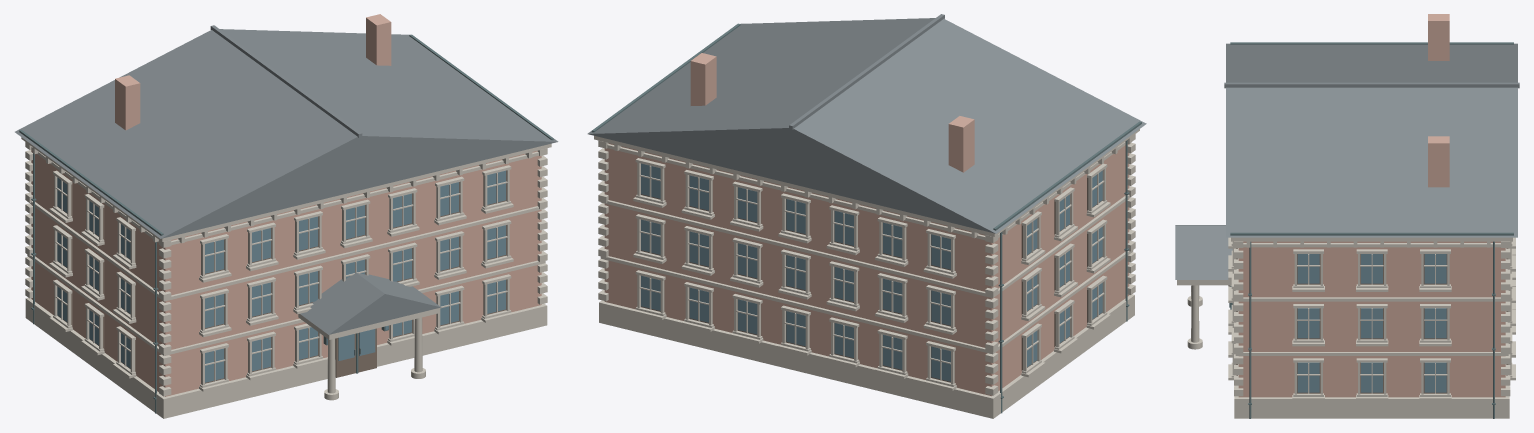
The model's file is management.glb.
3 views of the same model, side by side, from view 1: azimuth 30°, elevation 25°; view 2: azimuth 150°, elevation 25°; view 3: azimuth 270°, elevation 25° (orthographic). The views are drawn at different scales.
Parts seen in each view (by area): view 1: management-roof, management-stone, management-brick, management-glass, management-wood, management-metal; view 2: management-roof, management-stone, management-brick, management-glass, management-metal, management-wood; view 3: management-roof, management-brick, management-stone, management-glass, management-metal, management-wood.
Boxes of the visible parts, x1=… form: management-roof: x1=15, y1=25, x2=558, y2=334; management-stone: x1=21, y1=137, x2=551, y2=418; management-brick: x1=31, y1=14, x2=541, y2=396; management-glass: x1=57, y1=170, x2=505, y2=382; management-wood: x1=57, y1=171, x2=506, y2=383; management-metal: x1=19, y1=34, x2=553, y2=413; management-roof: x1=587, y1=14, x2=1146, y2=233; management-stone: x1=594, y1=129, x2=1139, y2=418; management-brick: x1=604, y1=53, x2=1129, y2=396; management-glass: x1=641, y1=163, x2=1102, y2=381; management-metal: x1=592, y1=23, x2=1141, y2=413; management-wood: x1=641, y1=168, x2=1102, y2=382; management-roof: x1=1175, y1=43, x2=1519, y2=279; management-brick: x1=1238, y1=14, x2=1505, y2=397; management-stone: x1=1177, y1=237, x2=1515, y2=418; management-glass: x1=1231, y1=254, x2=1446, y2=392; management-metal: x1=1229, y1=42, x2=1513, y2=418; management-wood: x1=1232, y1=248, x2=1508, y2=393.
Bounding box in the file's own units: 27.5 × 16.3 × 20.65.
